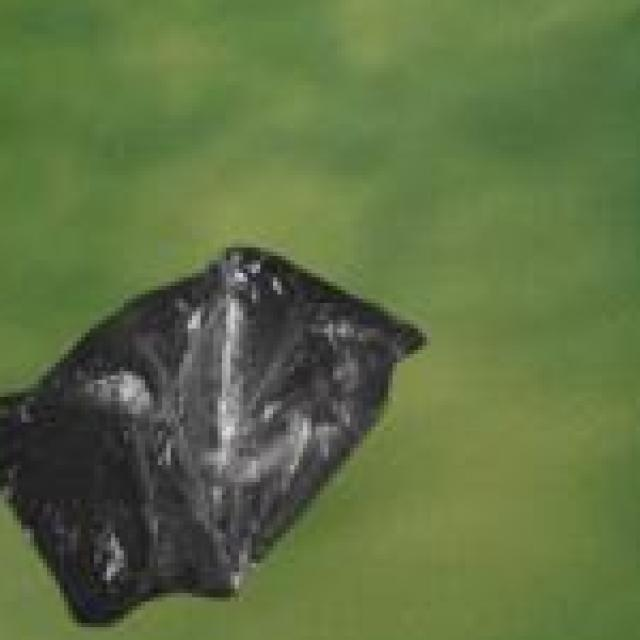Trashbag: (0, 236, 429, 627)
